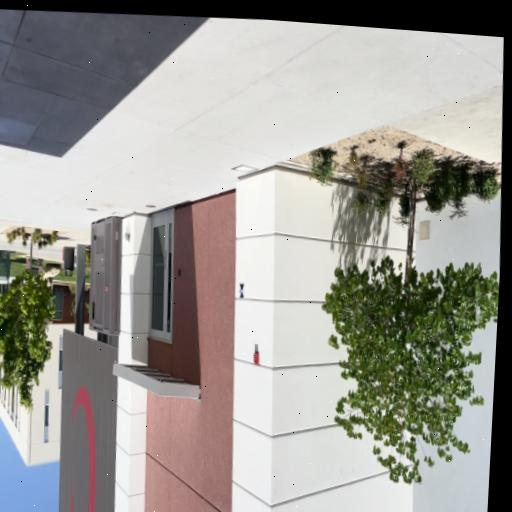target9: (238, 283, 245, 298)
